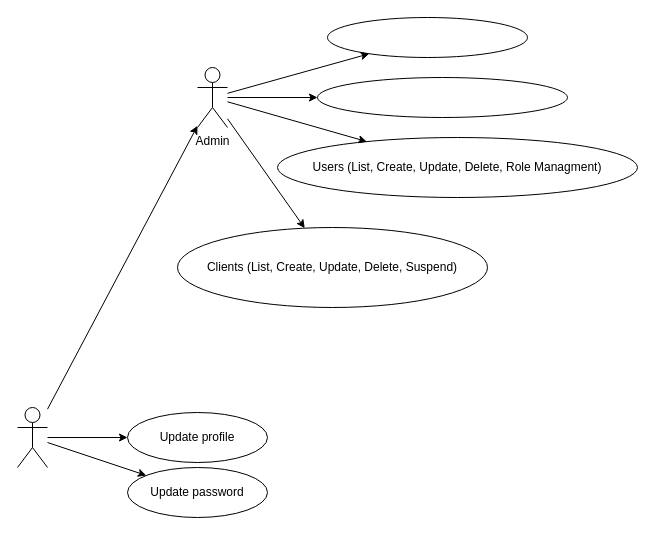
Some shapes in this 655 by 535 pixel diagram are drawn without their labels. Here are the shapes that lost their labels. From the top down, the box of each, then its label:
(326, 16, 528, 58): Order (List, check)
(316, 76, 568, 118): Products (List, Create, Update, Delete)
(16, 406, 48, 468): Auth
